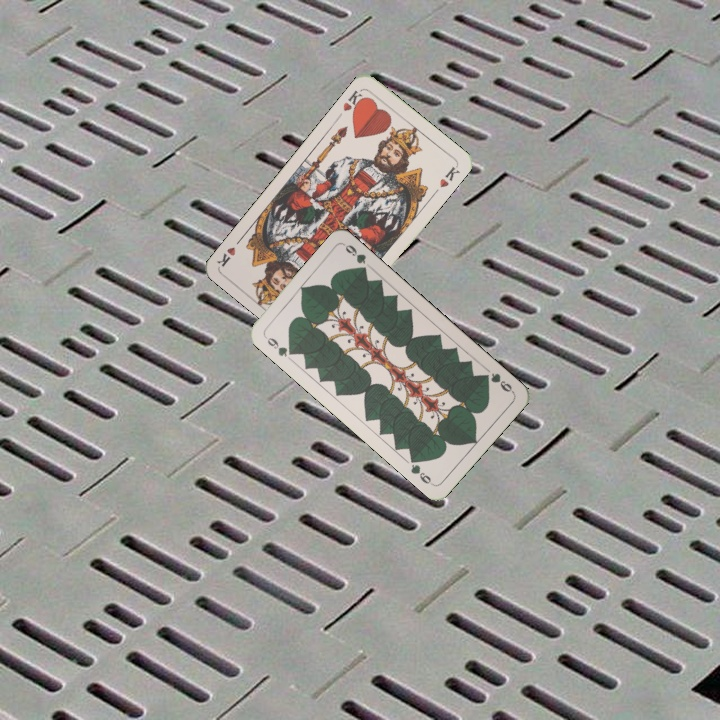G9: (260, 332, 298, 359), (478, 369, 516, 395)
HK: (339, 86, 368, 116)
